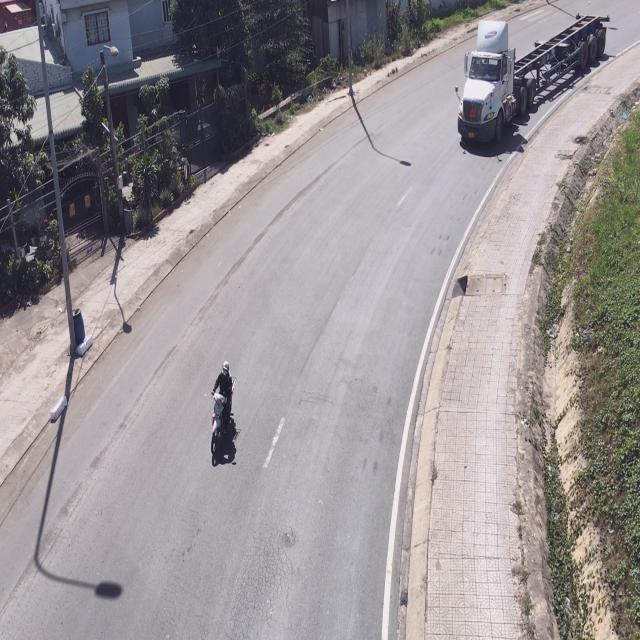motorbike: (208, 360, 238, 467)
truck: (460, 8, 611, 150)
